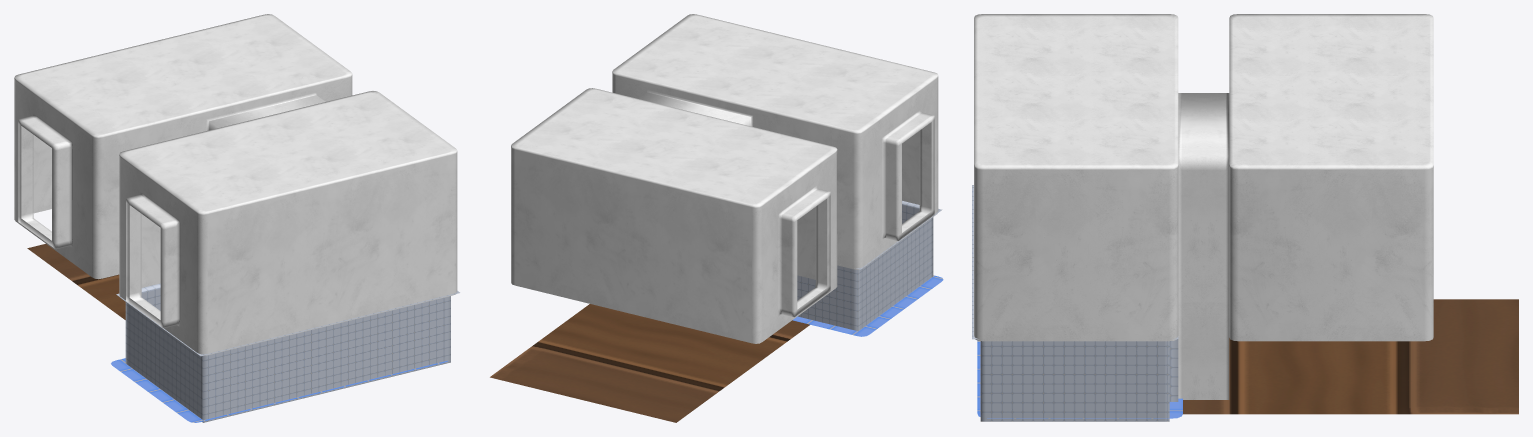
The model's file is Toilet_Structure.fbx.
3 renders of one model, left to right at view 1: azimuth 30°, elevation 25°; view 2: azimuth 150°, elevation 25°; view 3: azimuth 270°, elevation 25°, orthographic. The views are drawn at different scales.
Visible parts, largest first — view 1: U_Wall, U_Wall_Tile, U_Floor_1, U_Floor; view 2: U_Wall, U_Floor_1, U_Wall_Tile, U_Floor; view 3: U_Wall, U_Floor_1, U_Wall_Tile, U_Floor.
Part boxes in pixels (x1,y1,x2,y2): U_Wall: (14, 14, 457, 355); U_Wall_Tile: (116, 283, 459, 422); U_Floor_1: (27, 244, 125, 319); U_Floor: (111, 358, 448, 422); U_Wall: (511, 14, 938, 343); U_Floor_1: (490, 304, 809, 422); U_Wall_Tile: (797, 200, 942, 330); U_Floor: (792, 275, 943, 336); U_Wall: (974, 14, 1433, 399); U_Floor_1: (1183, 299, 1518, 414); U_Wall_Tile: (972, 185, 1178, 421); U_Floor: (977, 340, 1182, 418).
Size of the model in its own units: 358 by 266 by 508.
4 materials, 4 textured.
